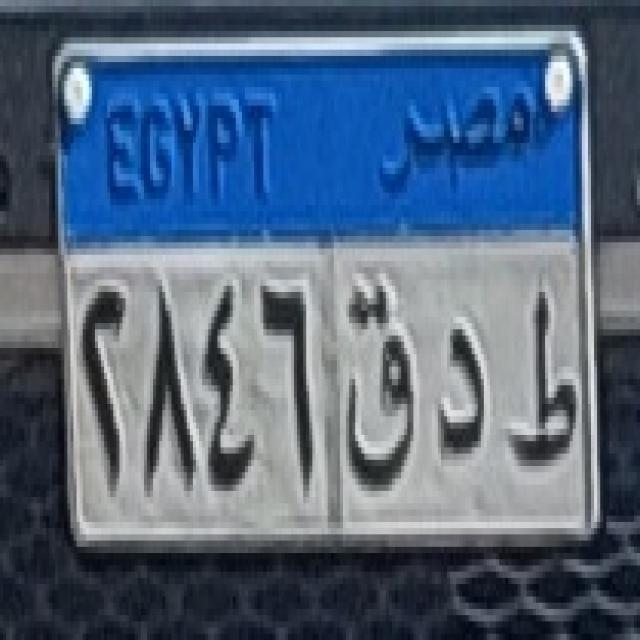2: (71, 264, 140, 498)
4: (195, 278, 255, 500)
6: (255, 269, 324, 502)
8: (140, 286, 202, 506)
Taa: (338, 280, 424, 499), (504, 286, 580, 476)
daal: (438, 309, 493, 471)
